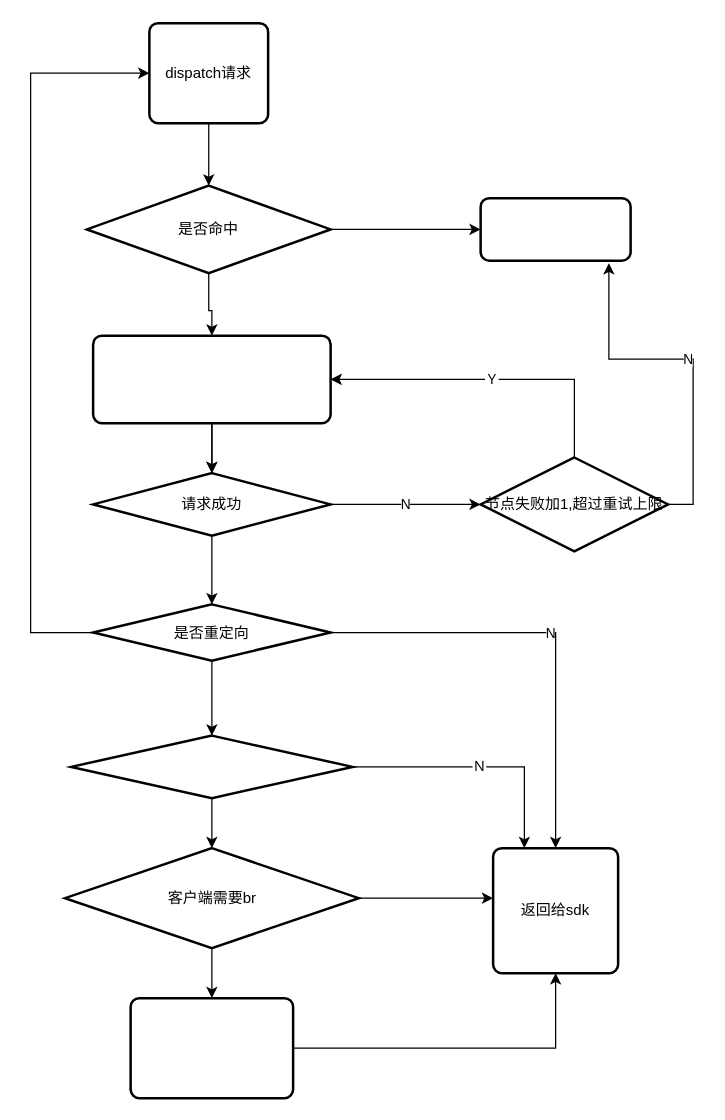
Some shapes in this 725 by 1120 pixel diagram are drawn without their labels. The centre of each missing label's shape, as x and y in pixels:
按域名挑选对应ip的连接池,异步创建连接,维护固定大小连接池,发送请求: the point at 211,379
是否先复制再转发: the point at 211,766
解压缩再br压缩: the point at 211,1047
返回599: the point at 555,228
